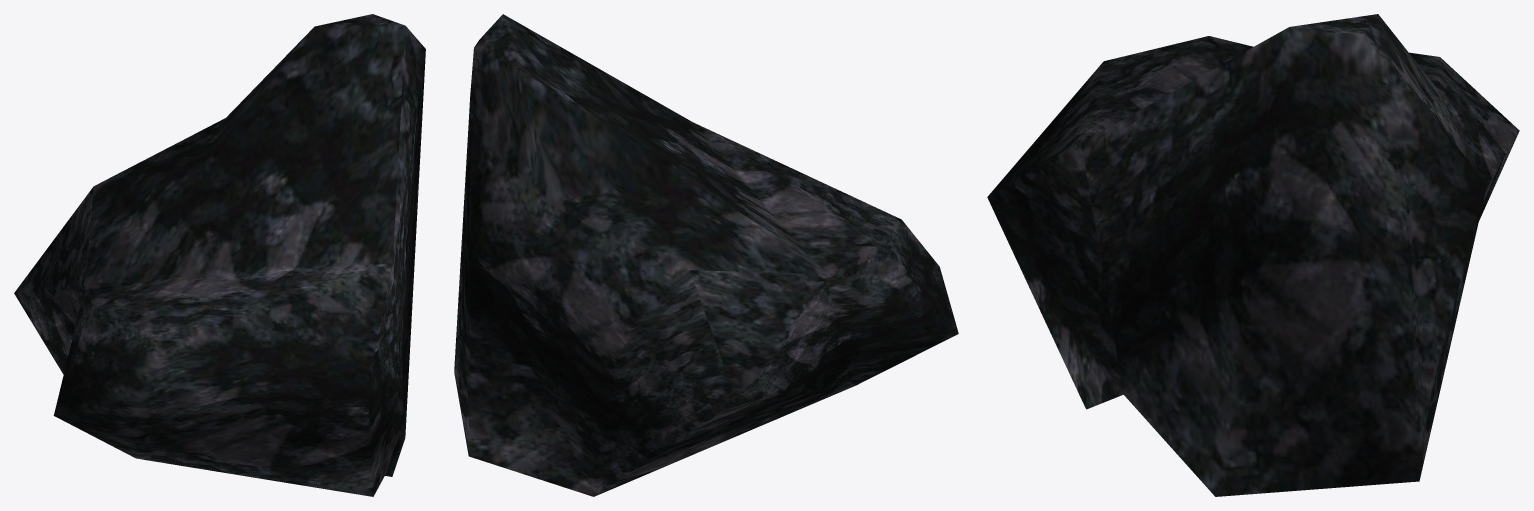
Rendered from asteroid_obsidian_small_s02_l3.fbx.
3 renders of one model, left to right at view 1: azimuth 30°, elevation 25°; view 2: azimuth 150°, elevation 25°; view 3: azimuth 270°, elevation 25°, orthographic. The views are drawn at different scales.
Visible parts, largest first — view 1: mesh_node; view 2: mesh_node; view 3: mesh_node.
Boxes of the visible parts, x1,y1,x2,y2 form: mesh_node: (14,14,425,496); mesh_node: (454,14,958,496); mesh_node: (987,14,1519,496).
Bounding box in the file's own units: 27.39 × 26.05 × 25.12.
1 material, 1 textured.
